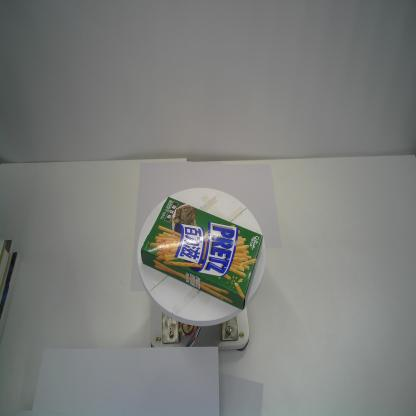Dessert: (140, 196, 263, 311)
